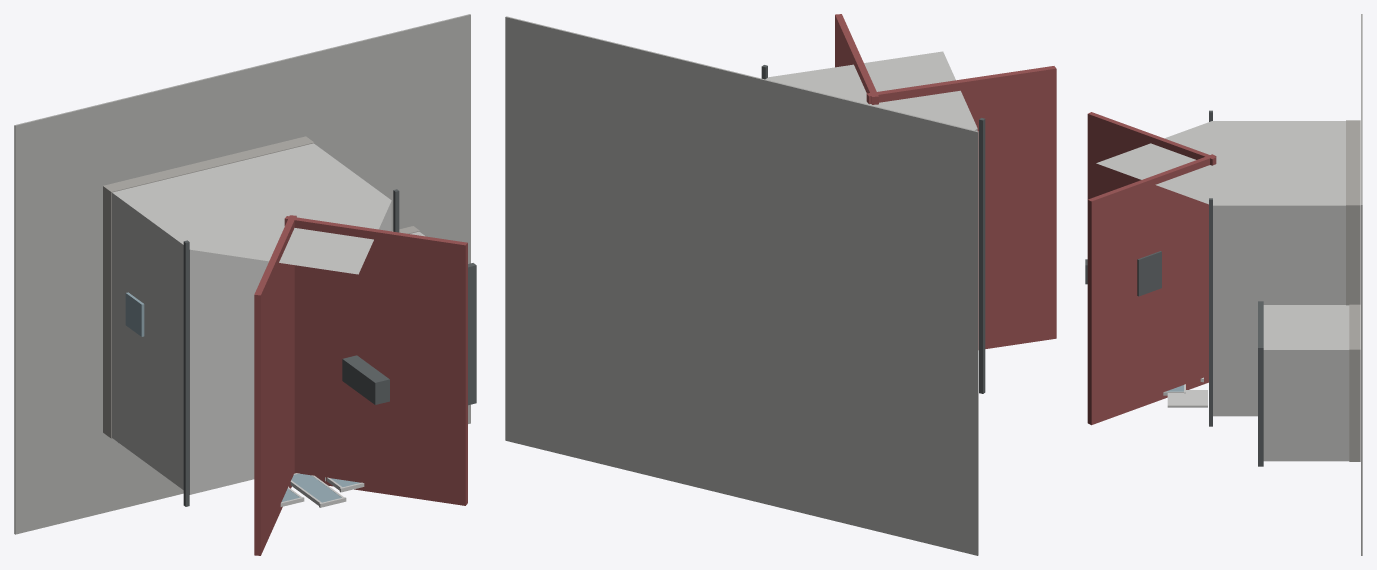
Rendered from jugendhaus.glb.
The picture shows the model from 3 angles, left to right: view 1: azimuth 30°, elevation 25°; view 2: azimuth 150°, elevation 25°; view 3: azimuth 270°, elevation 25°; orthographic projection. The views are drawn at different scales.
Visible parts, largest first — view 1: ground, main_walls, roof_right, roof_left, rear_gable, main_base, gutter_left, chimney, annex_flat_roof, left_small_window, upper_window_0; view 2: ground, roof_left, rear_gable, gutter_left, roof_right, main_walls; view 3: main_walls, roof_right, annex_walls, rear_gable, roof_left, main_base, annex_base, ground, annex_flat_roof, roof_window_frame, gutter_right, sign.
Boxes of the visible parts, bbox=[...] form: ground: bbox=[14, 14, 470, 534]; main_walls: bbox=[112, 143, 391, 494]; roof_right: bbox=[284, 216, 467, 505]; roof_left: bbox=[254, 215, 296, 555]; rear_gable: bbox=[191, 200, 391, 274]; main_base: bbox=[103, 136, 314, 438]; gutter_left: bbox=[183, 240, 189, 506]; chimney: bbox=[342, 355, 389, 404]; annex_flat_roof: bbox=[468, 263, 476, 405]; left_small_window: bbox=[125, 292, 144, 336]; upper_window_0: bbox=[291, 473, 341, 502]; ground: bbox=[505, 16, 978, 555]; roof_left: bbox=[866, 66, 1056, 349]; rear_gable: bbox=[769, 51, 977, 128]; gutter_left: bbox=[979, 118, 985, 393]; roof_right: bbox=[835, 14, 878, 104]; main_walls: bbox=[765, 77, 977, 131]; main_walls: bbox=[1212, 121, 1345, 416]; roof_right: bbox=[1087, 154, 1216, 425]; annex_walls: bbox=[1263, 305, 1349, 461]; rear_gable: bbox=[1096, 121, 1211, 204]; roof_left: bbox=[1087, 112, 1216, 199]; main_base: bbox=[1346, 120, 1360, 305]; annex_base: bbox=[1349, 304, 1360, 461]; ground: bbox=[1361, 14, 1362, 555]; annex_flat_roof: bbox=[1258, 301, 1263, 466]; roof_window_frame: bbox=[1137, 251, 1161, 296]; gutter_right: bbox=[1209, 198, 1212, 426]; sign: bbox=[1167, 390, 1207, 407].
Size of the model in its own units: 14 by 12 by 8.59.
